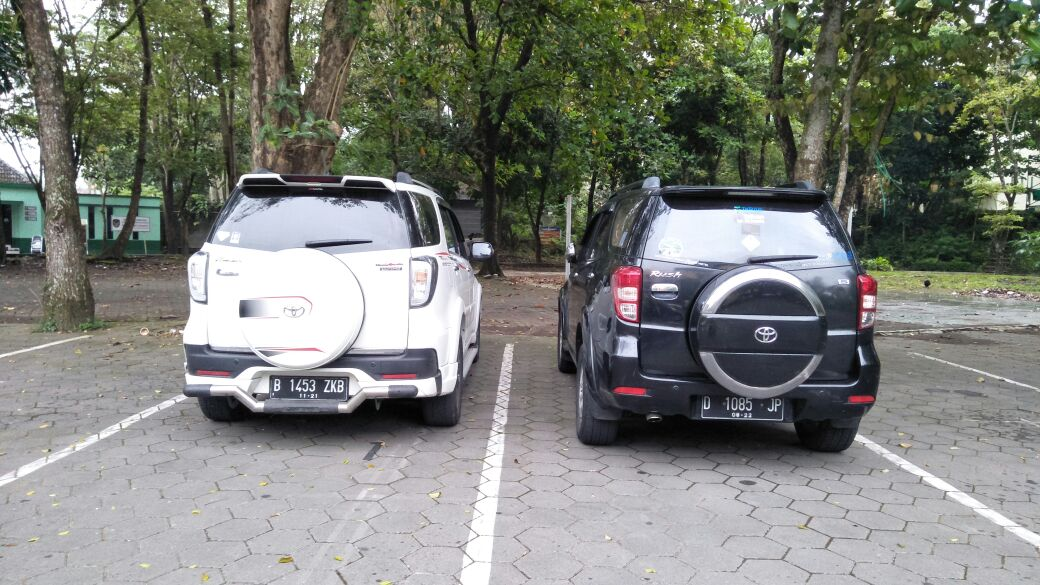plate: (700, 392, 786, 423), (268, 375, 348, 402)
